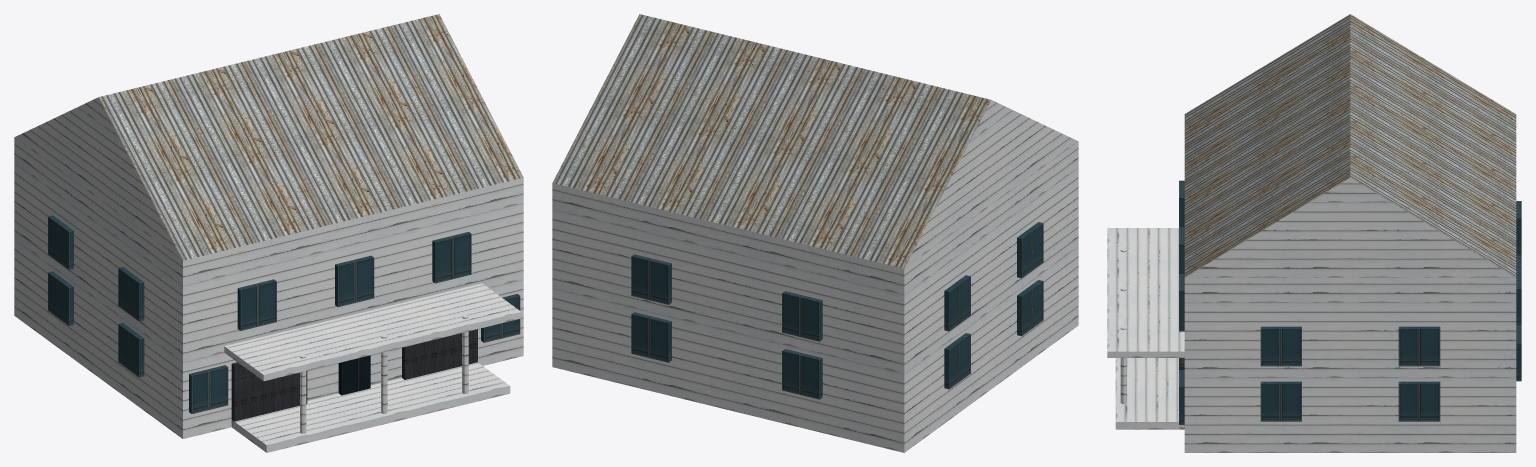
The model's file is modern-farmhouse_lod0.gltf.
3 renders of one model, left to right at view 1: azimuth 30°, elevation 25°; view 2: azimuth 150°, elevation 25°; view 3: azimuth 270°, elevation 25°, orthographic. The views are drawn at different scales.
Visible parts, largest first — view 1: modern-farmhouse_roof, modern-farmhouse_walls, modern-farmhouse_porch, modern-farmhouse_fen_07-glass-curtain-blue_0, modern-farmhouse_gable_ends, modern-farmhouse__garage_door_a, modern-farmhouse__garage_door_b, modern-farmhouse_fen_07-glass-curtain-blue_1_t; view 2: modern-farmhouse_walls, modern-farmhouse_roof, modern-farmhouse_fen_07-glass-curtain-blue_0, modern-farmhouse_gable_ends; view 3: modern-farmhouse_roof, modern-farmhouse_walls, modern-farmhouse_gable_ends, modern-farmhouse_porch, modern-farmhouse_fen_07-glass-curtain-blue_0.
Boxes of the visible parts, x1=… form: modern-farmhouse_roof: x1=98, y1=14, x2=523, y2=260; modern-farmhouse_walls: x1=14, y1=137, x2=523, y2=438; modern-farmhouse_porch: x1=224, y1=283, x2=521, y2=452; modern-farmhouse_fen_07-glass-curtain-blue_0: x1=48, y1=215, x2=520, y2=413; modern-farmhouse_gable_ends: x1=14, y1=97, x2=182, y2=260; modern-farmhouse__garage_door_a: x1=231, y1=362, x2=307, y2=424; modern-farmhouse__garage_door_b: x1=402, y1=329, x2=477, y2=379; modern-farmhouse_fen_07-glass-curtain-blue_1_t: x1=338, y1=355, x2=370, y2=395; modern-farmhouse_walls: x1=552, y1=141, x2=1078, y2=452; modern-farmhouse_roof: x1=552, y1=14, x2=990, y2=268; modern-farmhouse_fen_07-glass-curtain-blue_0: x1=631, y1=222, x2=1043, y2=399; modern-farmhouse_gable_ends: x1=904, y1=100, x2=1077, y2=268; modern-farmhouse_roof: x1=1184, y1=14, x2=1516, y2=277; modern-farmhouse_walls: x1=1184, y1=277, x2=1516, y2=452; modern-farmhouse_gable_ends: x1=1185, y1=177, x2=1515, y2=277; modern-farmhouse_porch: x1=1107, y1=228, x2=1184, y2=429; modern-farmhouse_fen_07-glass-curtain-blue_0: x1=1179, y1=180, x2=1521, y2=424.
Size of the model in its own units: 14.4 by 11 by 15.
